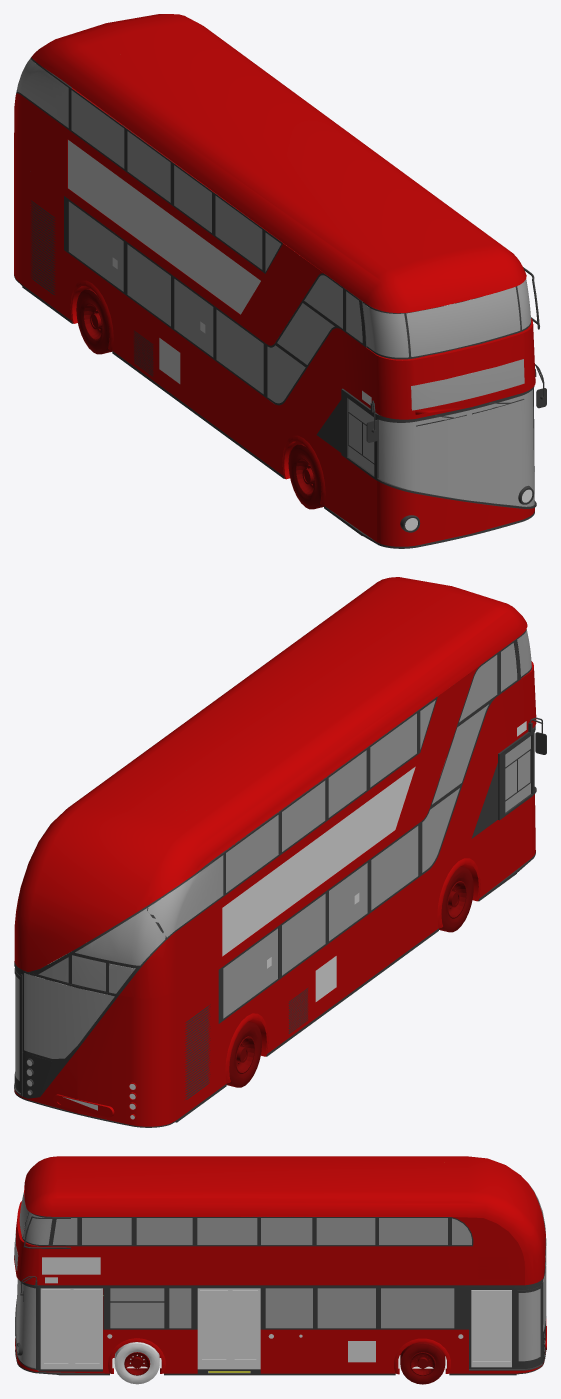
File: Red Bus.fbx
3 views of the same model, one above another, from view 1: azimuth 30°, elevation 25°; view 2: azimuth 150°, elevation 25°; view 3: azimuth 270°, elevation 25° (orthographic). The views are drawn at different scales.
Parts seen in each view (by area): view 1: 3-_DarkRedMetalShader, 12-_GlassShader, 1-_BlackMetalShader, 17-_BusPosterShader, 41-_RearRightWheel_Bl, 37-_FrontRightWheel_B, 16-_DecalsShader; view 2: 3-_DarkRedMetalShader, 12-_GlassShader, 1-_BlackMetalShader, 17-_BusPosterShader, 41-_RearRightWheel_Bl, 37-_FrontRightWheel_B, 16-_DecalsShader; view 3: 3-_DarkRedMetalShader, 12-_GlassShader, 1-_BlackMetalShader, 30-_RearDoor_GlassSha, 16-_DecalsShader, 23-_FrontRightDoor_Gl, 20-_FrontLeftDoor_Gla, 26-_MiddleLeftDoor_Gl, 29-_MiddleRightDoor_G, 25-_MiddleLeftDoor_Bl, 28-_MiddleRightDoor_B, 38-_RearLeftWheel_Bla (+6 smaller).
Part boxes in pixels (x1,y1,x2,y2): 3-_DarkRedMetalShader: (14, 14, 535, 546); 12-_GlassShader: (16, 58, 534, 506); 1-_BlackMetalShader: (14, 57, 546, 548); 17-_BusPosterShader: (68, 140, 260, 314); 41-_RearRightWheel_Bl: (76, 288, 112, 354); 37-_FrontRightWheel_B: (288, 444, 323, 509); 16-_DecalsShader: (112, 257, 371, 405); 3-_DarkRedMetalShader: (14, 577, 536, 1126); 12-_GlassShader: (15, 629, 531, 1080); 1-_BlackMetalShader: (14, 629, 546, 1127); 17-_BusPosterShader: (222, 766, 415, 956); 41-_RearRightWheel_Bl: (226, 1021, 261, 1087); 37-_FrontRightWheel_B: (439, 866, 473, 932); 16-_DecalsShader: (267, 721, 526, 1001); 3-_DarkRedMetalShader: (14, 1156, 546, 1374); 12-_GlassShader: (14, 1187, 546, 1368); 1-_BlackMetalShader: (15, 1186, 546, 1375); 30-_RearDoor_GlassSha: (472, 1293, 510, 1361); 16-_DecalsShader: (42, 1257, 375, 1362); 23-_FrontRightDoor_Gl: (75, 1293, 99, 1362); 20-_FrontLeftDoor_Gla: (44, 1293, 68, 1362); 26-_MiddleLeftDoor_Gl: (202, 1294, 226, 1359); 29-_MiddleRightDoor_G: (234, 1294, 256, 1359); 25-_MiddleLeftDoor_Bl: (197, 1288, 230, 1369); 28-_MiddleRightDoor_B: (230, 1288, 260, 1369); 38-_RearLeftWheel_Bla: (400, 1342, 445, 1384).
Bounding box in the file's own units: 283 × 440 × 1133.
